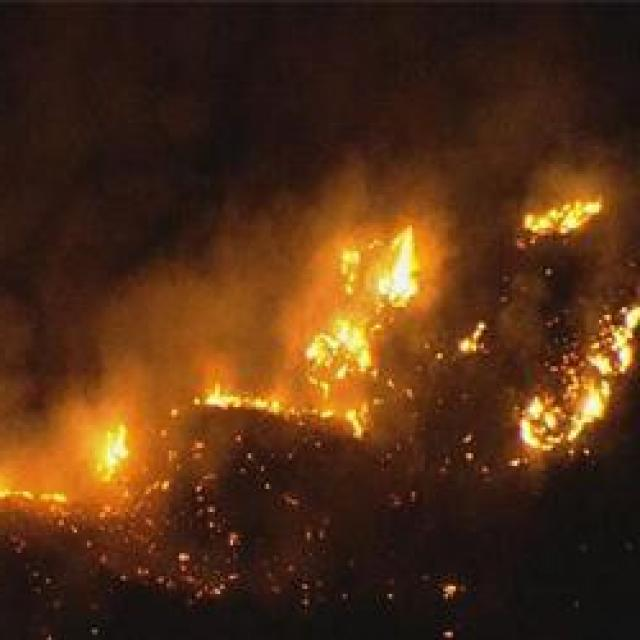fire: (516, 354, 623, 454), (520, 198, 604, 244), (376, 227, 414, 299), (192, 389, 288, 414), (90, 413, 128, 472), (0, 484, 62, 512)
smoke: (0, 12, 162, 220), (0, 197, 108, 397), (475, 17, 591, 185), (144, 266, 270, 370), (192, 180, 286, 304), (300, 130, 414, 228), (1, 382, 90, 482)
